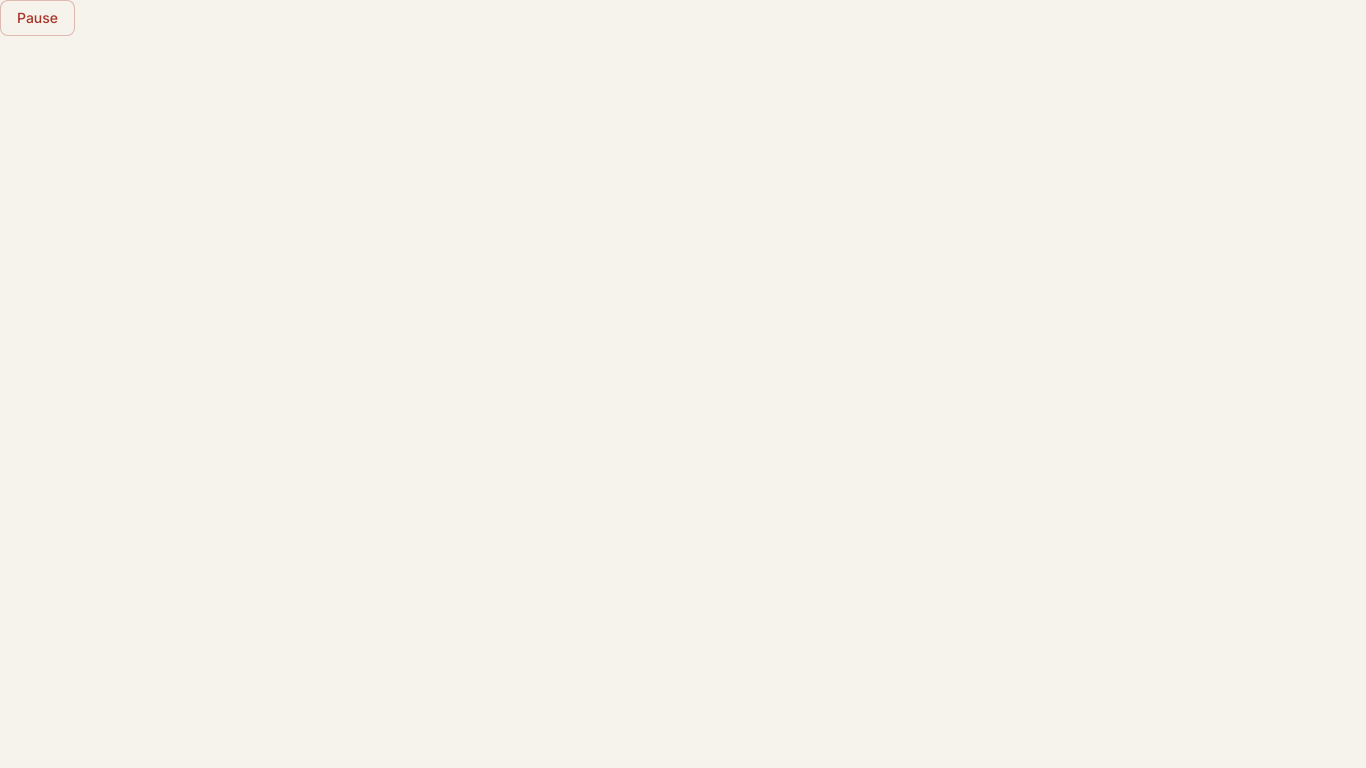
Test: ConfirmDialog › closes and reports on success
The image size is (1366, 768).
Step 1. Click the button "Pause" → (38,18), box [0,0,75,36]
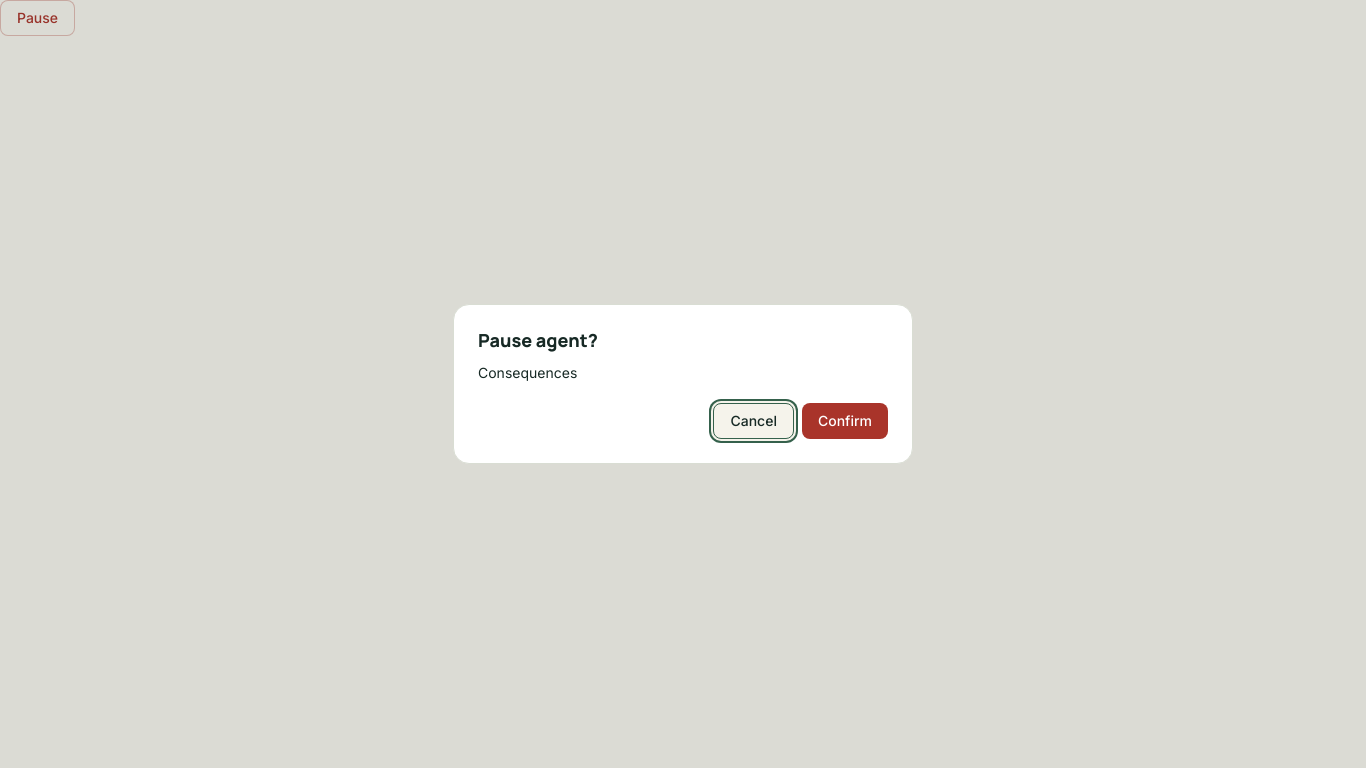
Step 2. Click the button "Confirm" → (845,421), box [802,403,888,439]
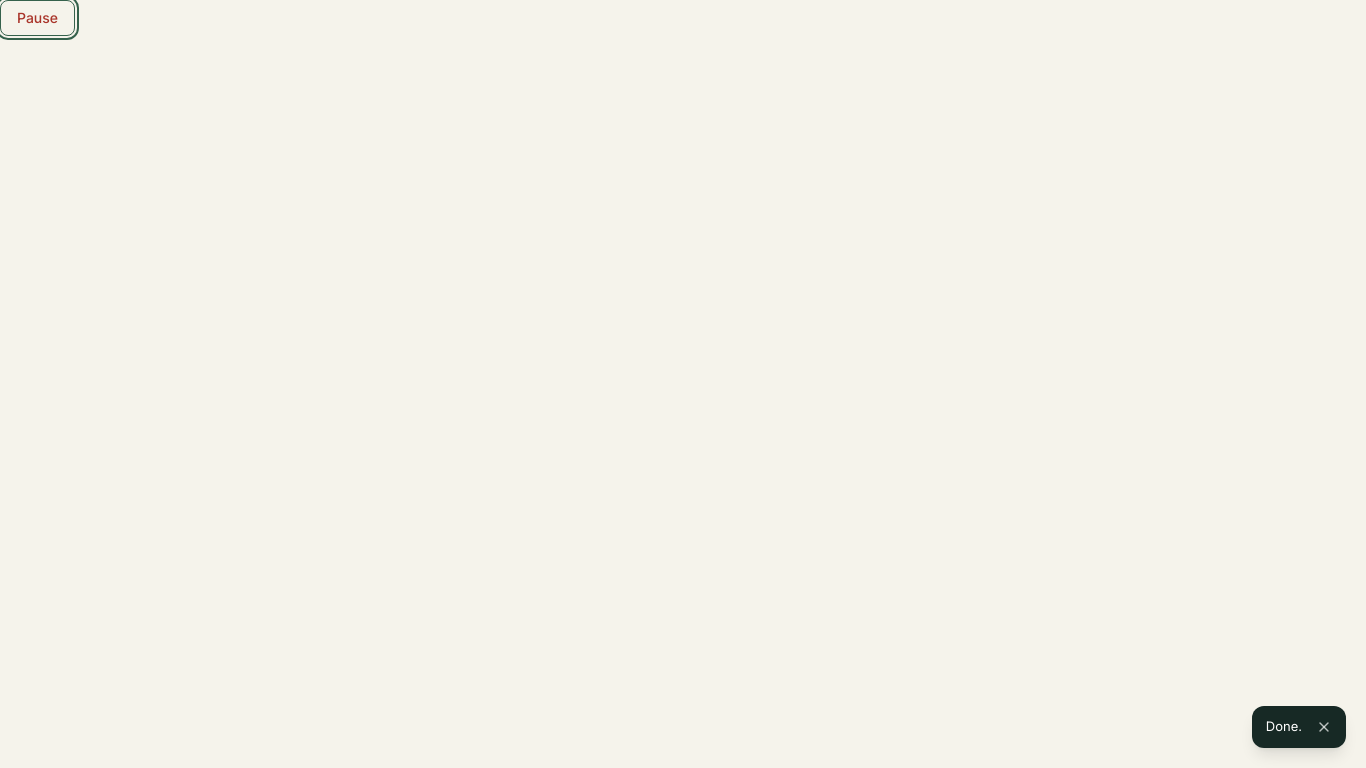
Now the text "Done." is shown, box [1266,717,1302,735]
